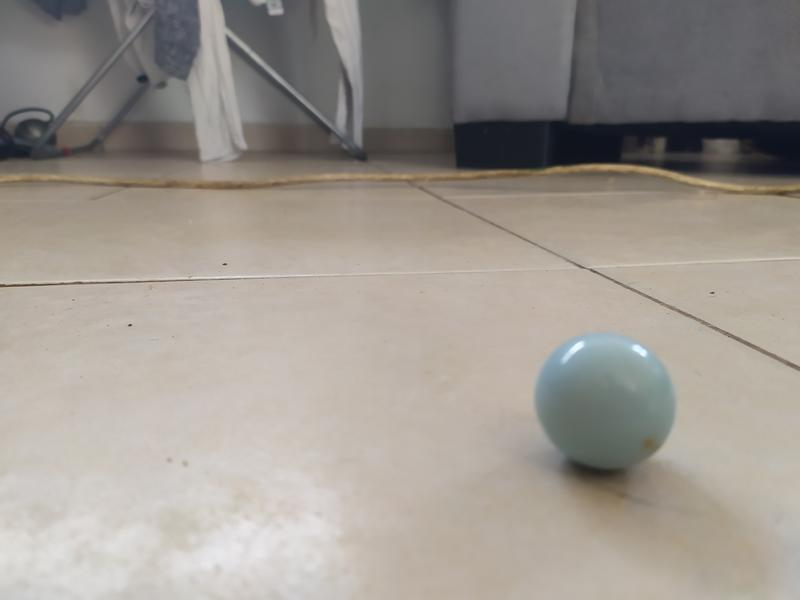Warning: (528, 326, 683, 477)
